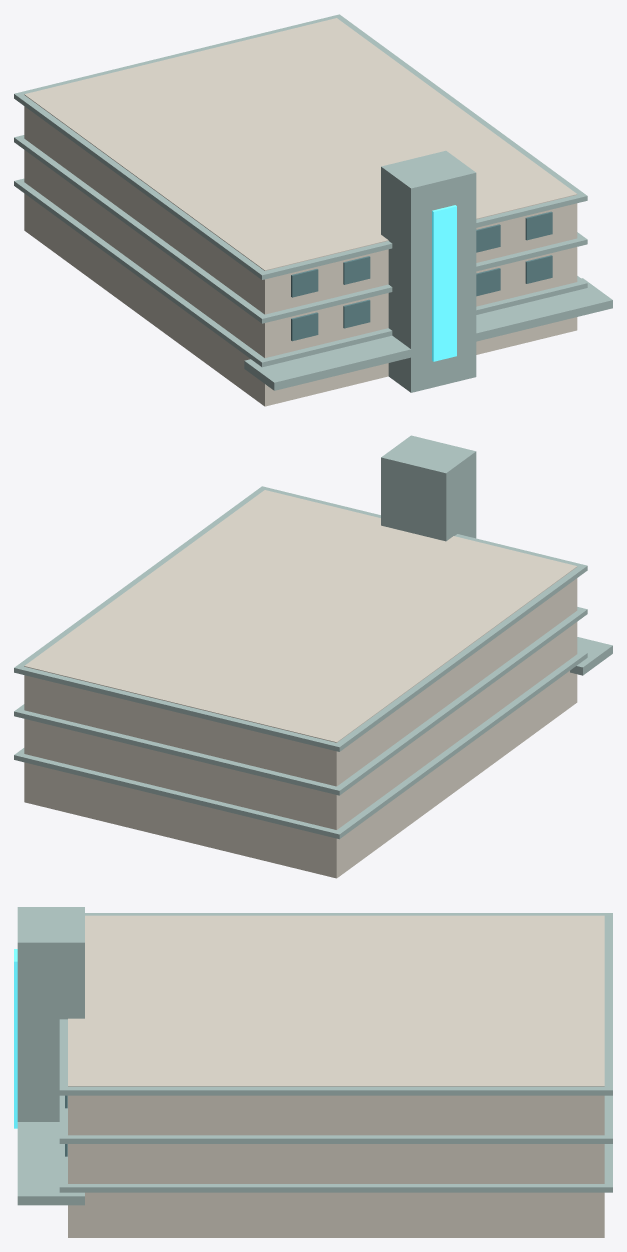
File: colony.glb
3 renders of one model, top to bottom at view 1: azimuth 30°, elevation 25°; view 2: azimuth 150°, elevation 25°; view 3: azimuth 270°, elevation 25°, orthographic. The views are drawn at different scales.
Parts seen in each view (by area): view 1: Interpretive Colony Hotel; view 2: Interpretive Colony Hotel; view 3: Interpretive Colony Hotel.
Part boxes in pixels (x1,y1,x2,y2): Interpretive Colony Hotel: [14, 14, 612, 406]; Interpretive Colony Hotel: [14, 435, 612, 878]; Interpretive Colony Hotel: [14, 907, 612, 1237].
Size of the model in its own units: 26 by 15 by 35.73.
